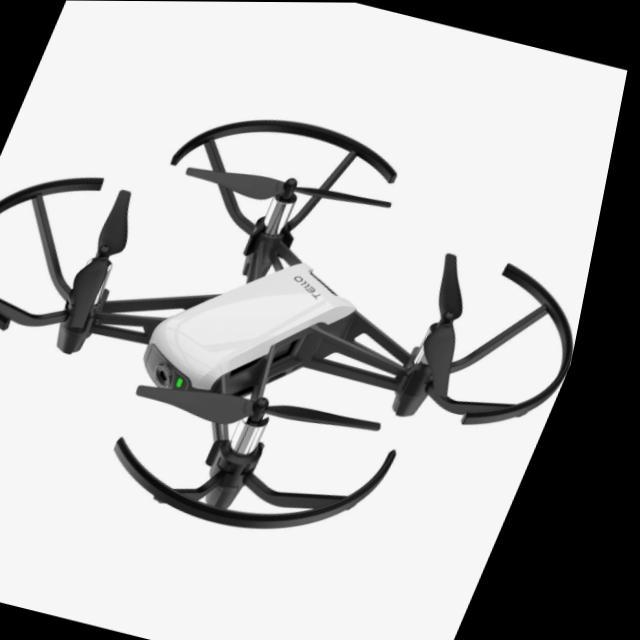drone: (0, 119, 585, 528)
